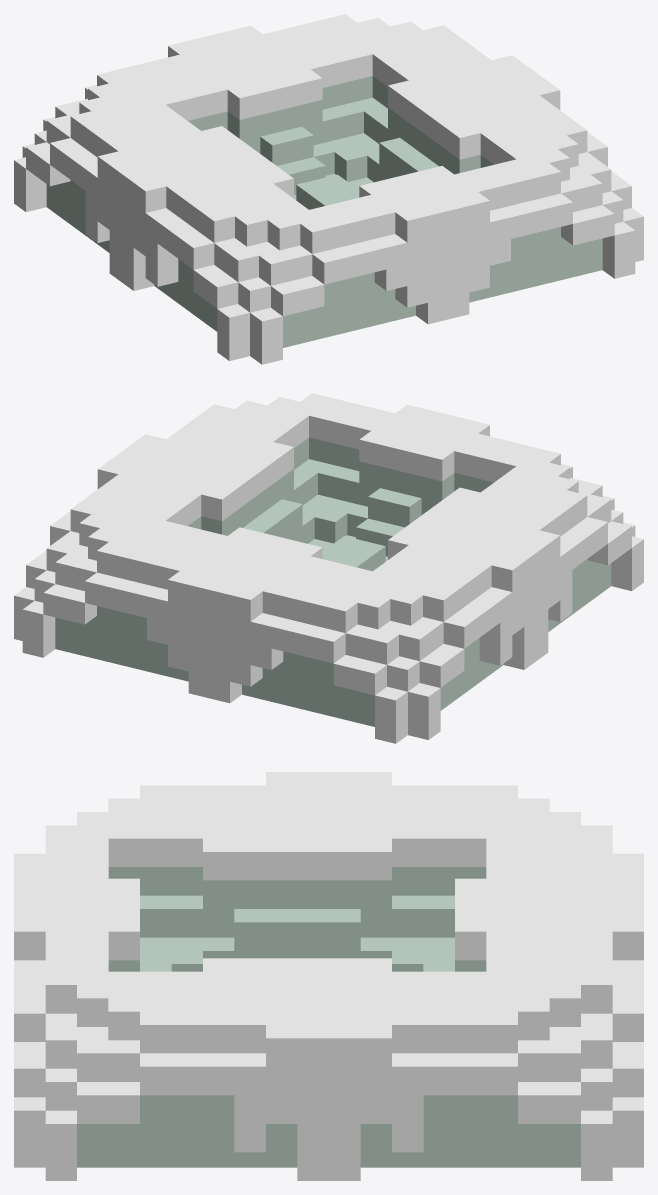
Rendered from Lift-1.obj.
3 views of the same model, one above another, from view 1: azimuth 30°, elevation 25°; view 2: azimuth 150°, elevation 25°; view 3: azimuth 270°, elevation 25° (orthographic). The views are drawn at different scales.
Bounding box in the file's own units: 2 × 0.5 × 2.
Materials: 1 (1 with a texture image).
